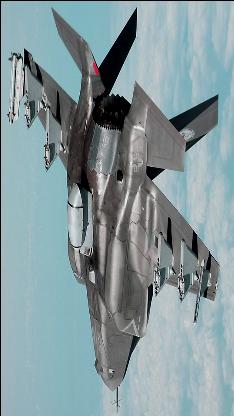F22: (5, 6, 219, 414)
